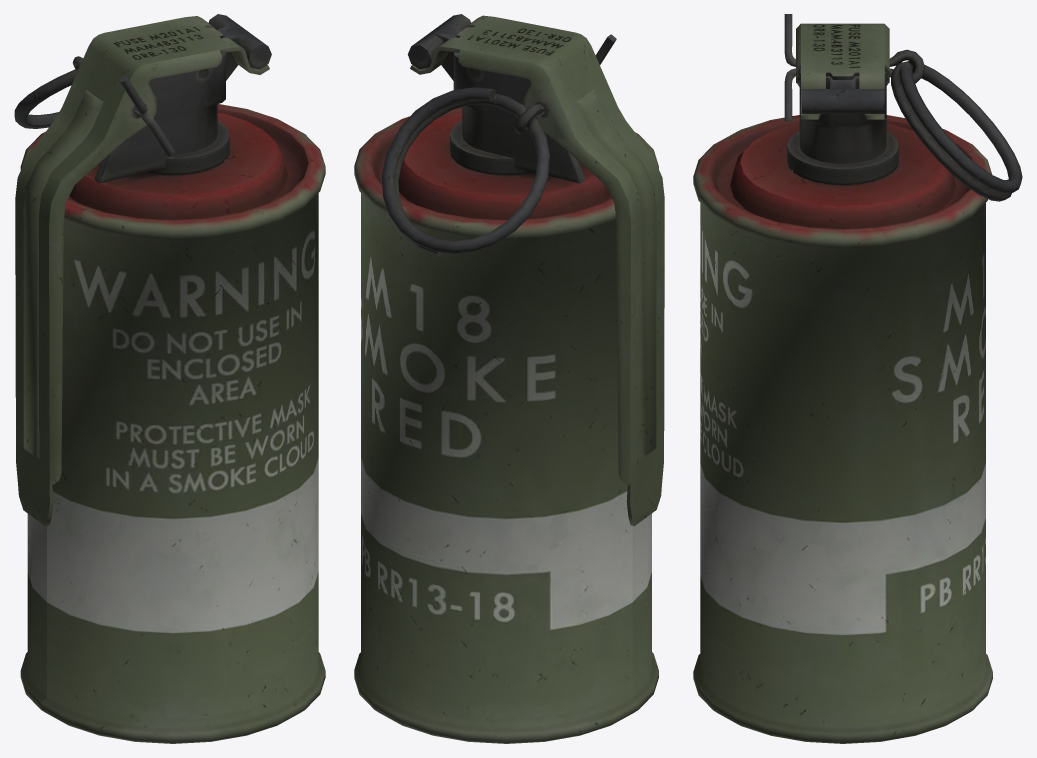
The model's file is item_smoke.glb.
The picture shows the model from 3 angles, left to right: view 1: azimuth 30°, elevation 25°; view 2: azimuth 150°, elevation 25°; view 3: azimuth 270°, elevation 25°; orthographic projection.
Parts seen in each view (by area): view 1: mat1; view 2: mat1; view 3: mat1.
Boxes of the visible parts, box(x1,y1,x2,y2) form: mat1: box(14, 14, 325, 743); mat1: box(354, 14, 664, 743); mat1: box(693, 14, 1022, 743).
Size of the model in its own units: 0.1305 by 0.29 by 0.1364.
2 materials, 1 textured.
